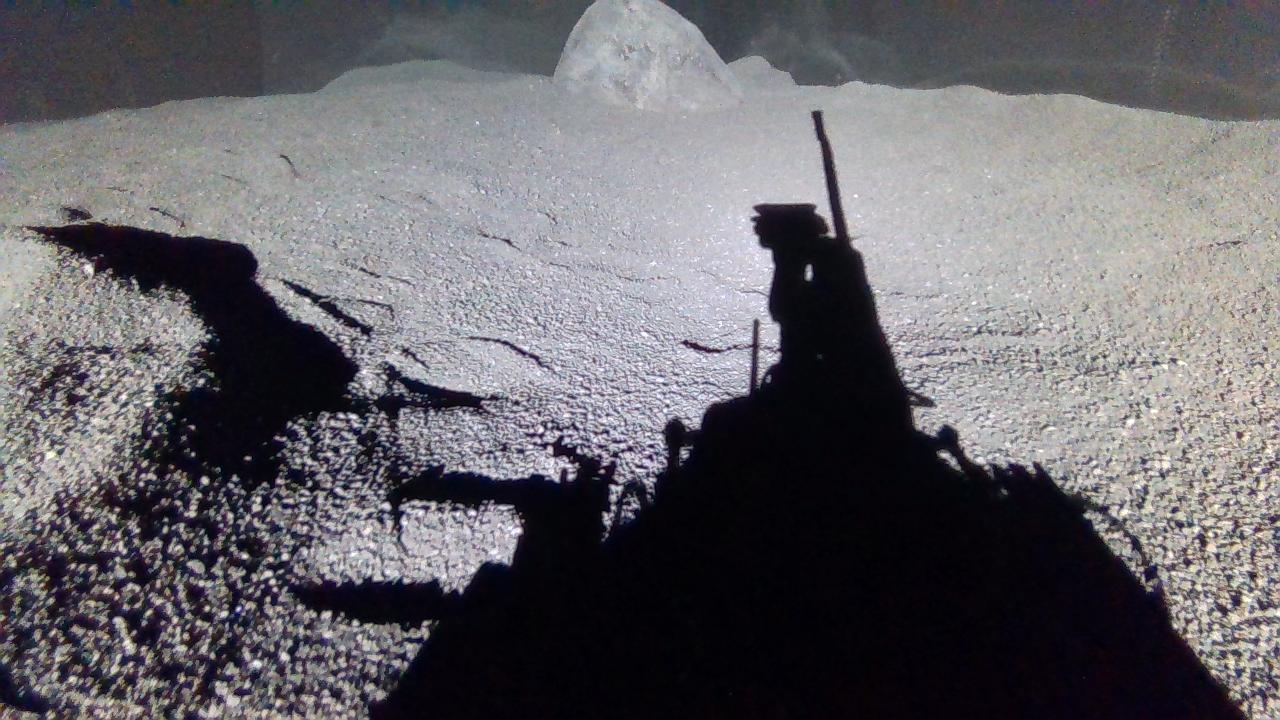rock: (554, 0, 744, 109)
